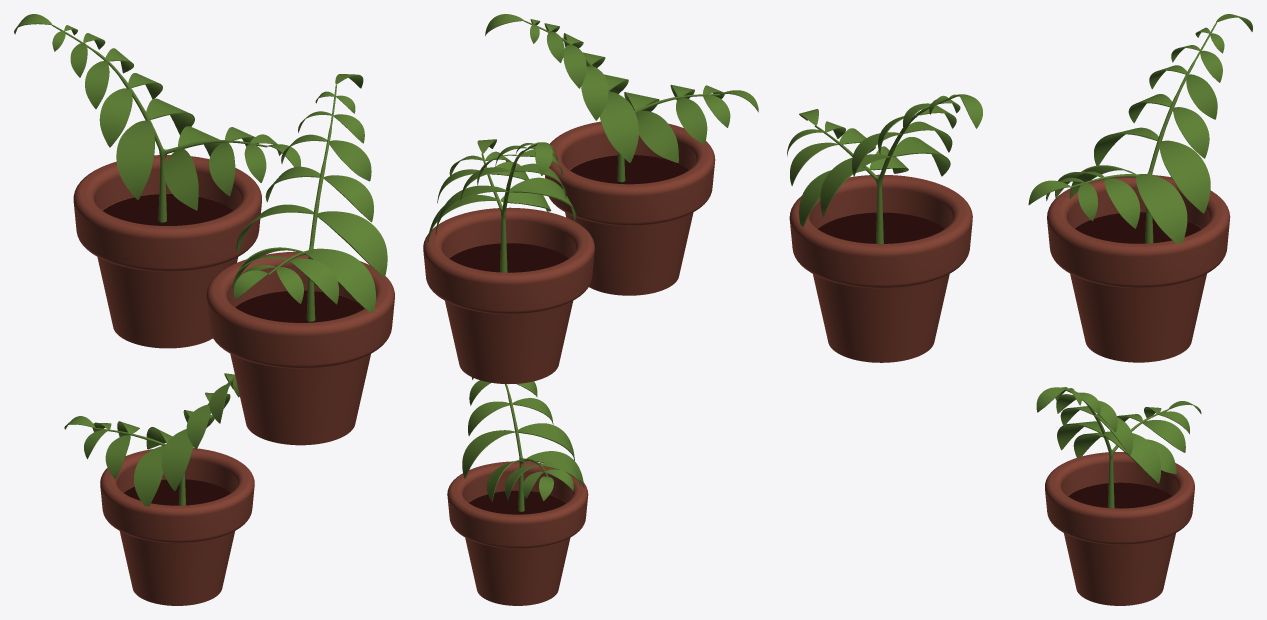
The model's file is Room3-Flower3.glb.
3 views of the same model, side by side, from view 1: azimuth 30°, elevation 25°; view 2: azimuth 150°, elevation 25°; view 3: azimuth 270°, elevation 25° (orthographic). The views are drawn at different scales.
Parts seen in each view (by area): view 1: Dirt3.001, Dirt3.002, Dirt3.003; view 2: Dirt3.002, Dirt3.001, Dirt3.003; view 3: Dirt3.001, Dirt3.002, Dirt3.003.
Part boxes in pixels (x1,y1,x2,y2): Dirt3.001: (14, 14, 300, 348); Dirt3.002: (206, 74, 394, 445); Dirt3.003: (64, 373, 254, 605); Dirt3.002: (485, 14, 758, 295); Dirt3.001: (423, 139, 594, 384); Dirt3.003: (447, 377, 588, 605); Dirt3.001: (1028, 14, 1252, 362); Dirt3.002: (787, 94, 982, 362); Dirt3.003: (1036, 387, 1201, 605).
Bounding box in the file's own units: 2.65 × 6.49 × 5.14.
